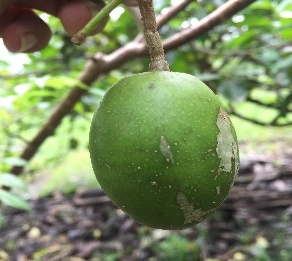Coc: (75, 63, 249, 228)
